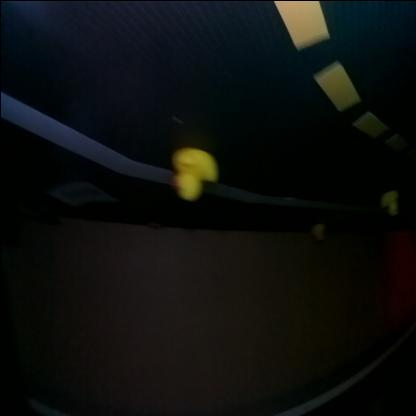Duckie: (168, 147, 218, 201), (378, 190, 398, 216), (310, 223, 324, 242)
